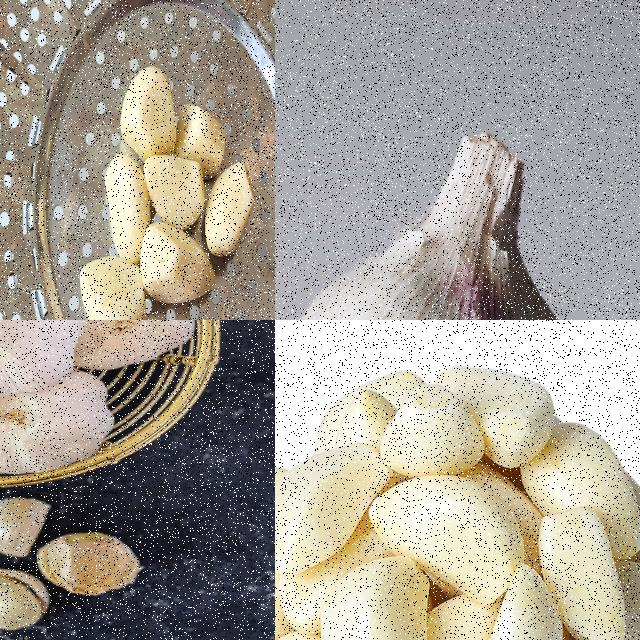garlic: (275, 362, 639, 639), (289, 133, 598, 319), (76, 64, 256, 319), (0, 495, 147, 636), (0, 368, 115, 470), (36, 320, 200, 372), (0, 320, 84, 395)
